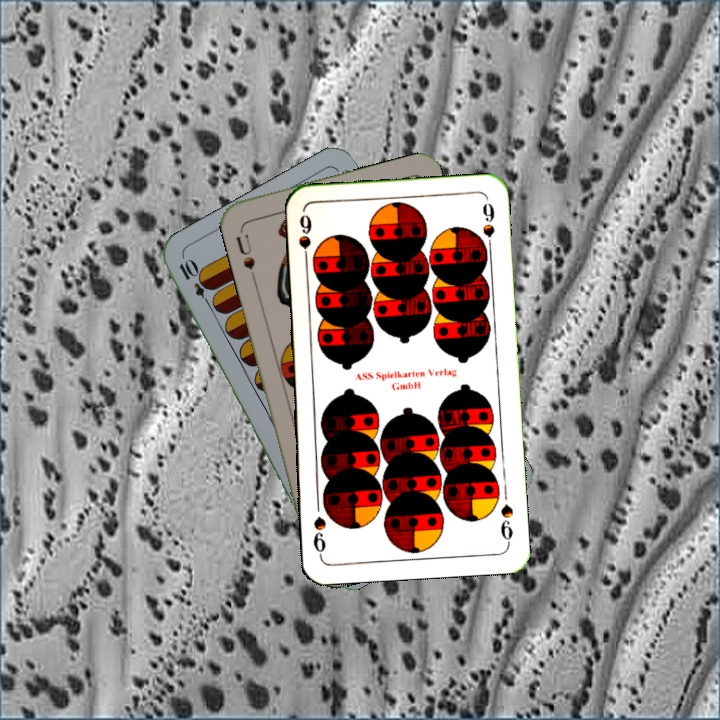E10: (174, 256, 216, 310)
S9: (294, 210, 315, 269), (496, 500, 516, 547)
SU: (232, 230, 259, 283)
